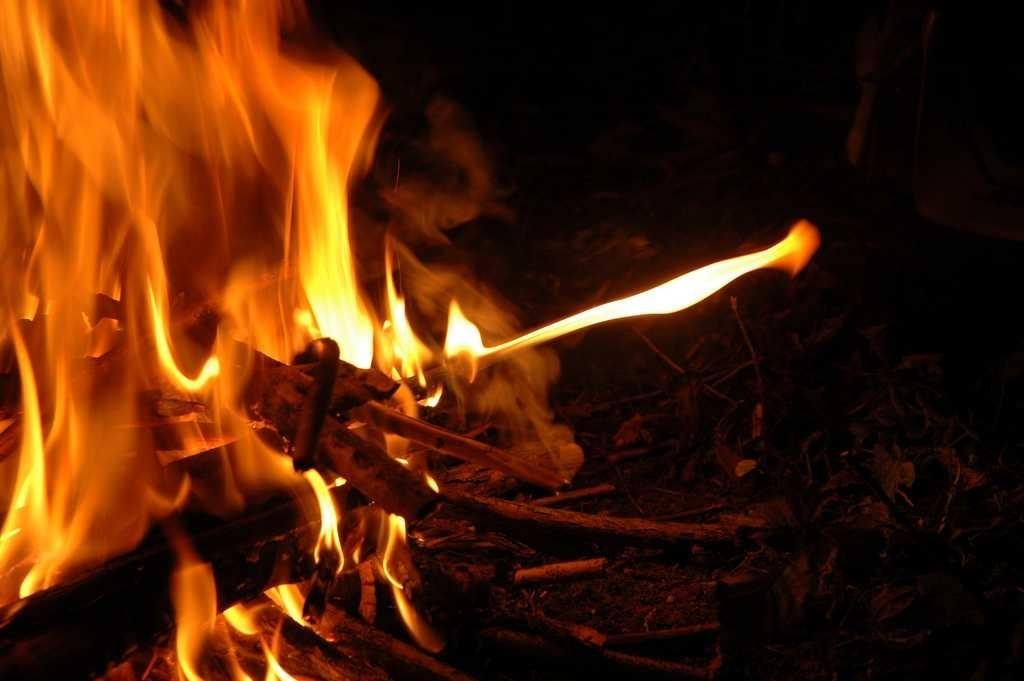fire: (15, 17, 172, 350), (25, 425, 128, 543), (290, 145, 348, 330)
